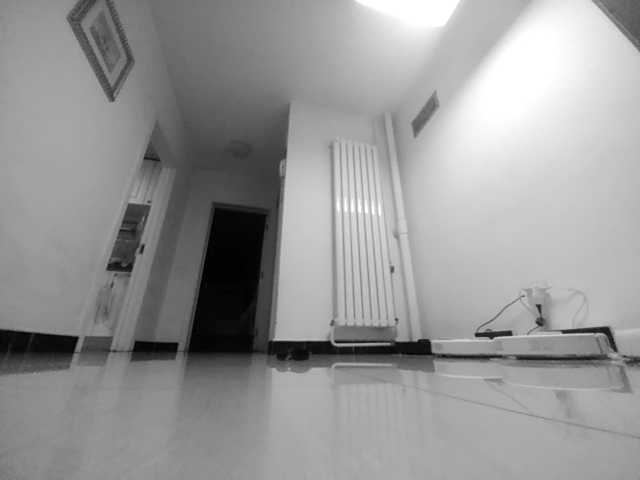others: (275, 344, 312, 362)
